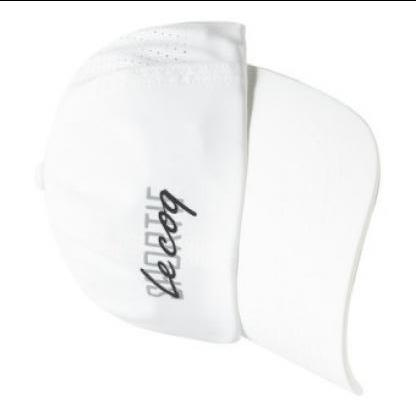cap: (25, 9, 387, 402)
